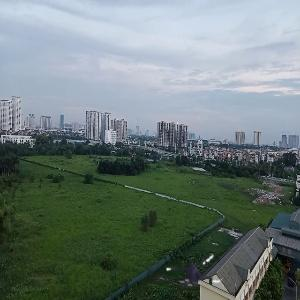drone: (167, 239, 228, 300)
